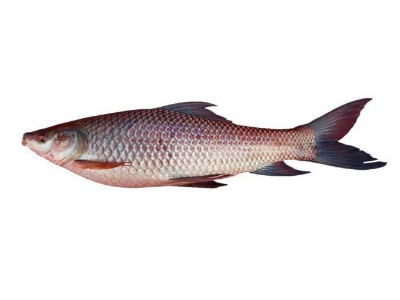rohu: (11, 86, 395, 207)
